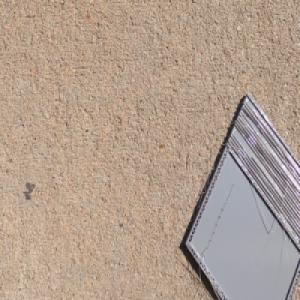PlasticPart: (182, 89, 300, 300)
